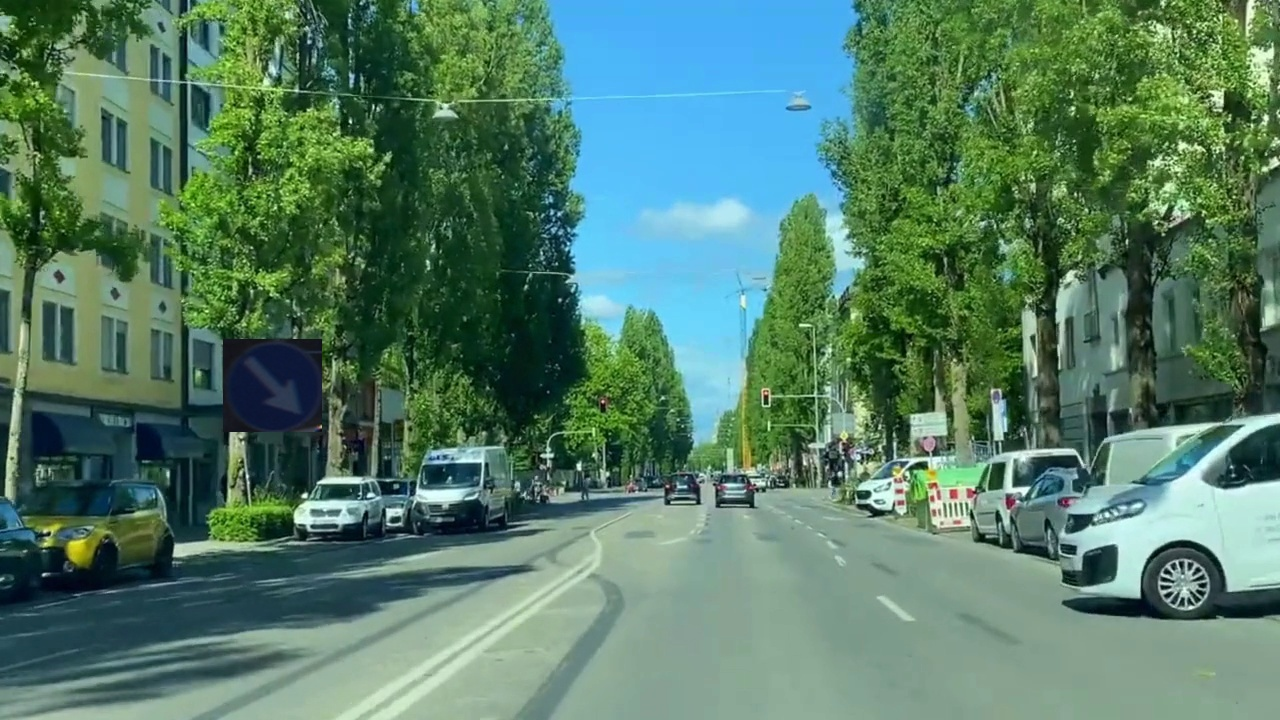Keep right: (223, 339, 322, 432)
